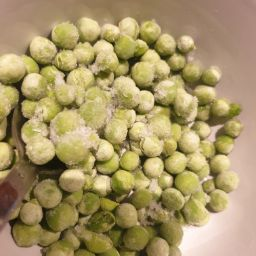Peas: (8, 14, 246, 256), (49, 21, 213, 210), (2, 54, 136, 256), (57, 96, 215, 229)
